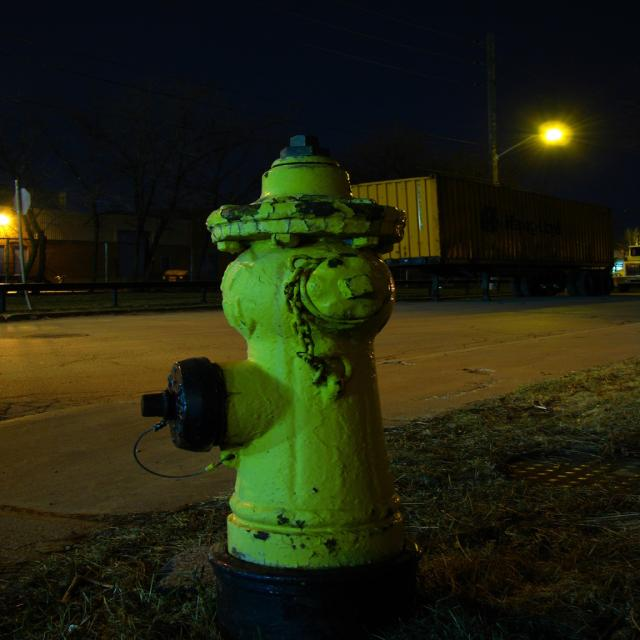fire_hydrant: (131, 135, 408, 601)
